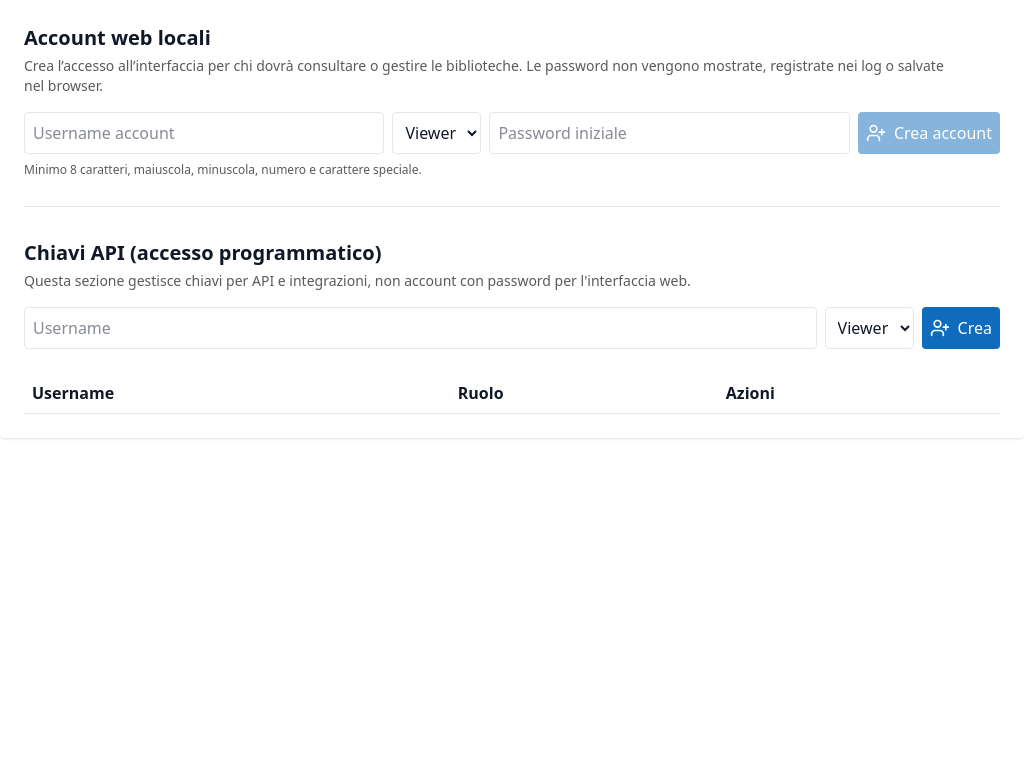
UserManagement › shows a newly generated API key in a one-time dialog instead of a notification
The image size is (1024, 768).
Expected: the heading "Chiavi API (accesso programmatico)" is shown, [24,239,382,266]
Type "maria" into the field with placeholder "Username". click: (420, 328)
box: [24,307,817,349]
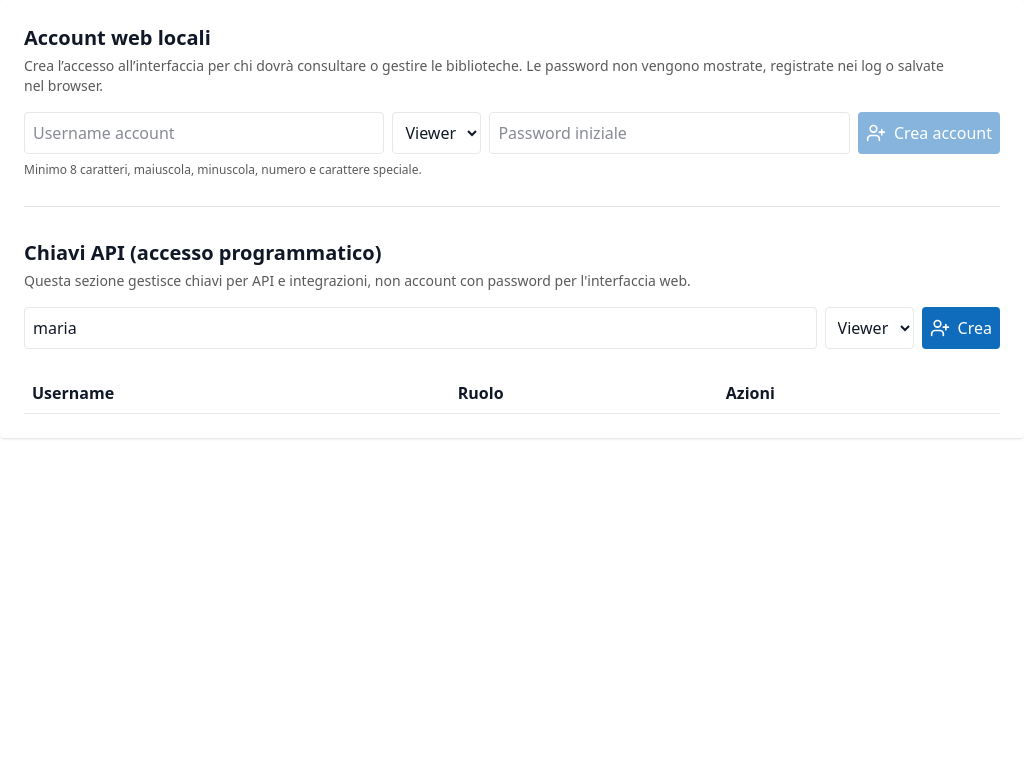
Click the button "Crea". click: (961, 328)
box: [922,307,1000,349]
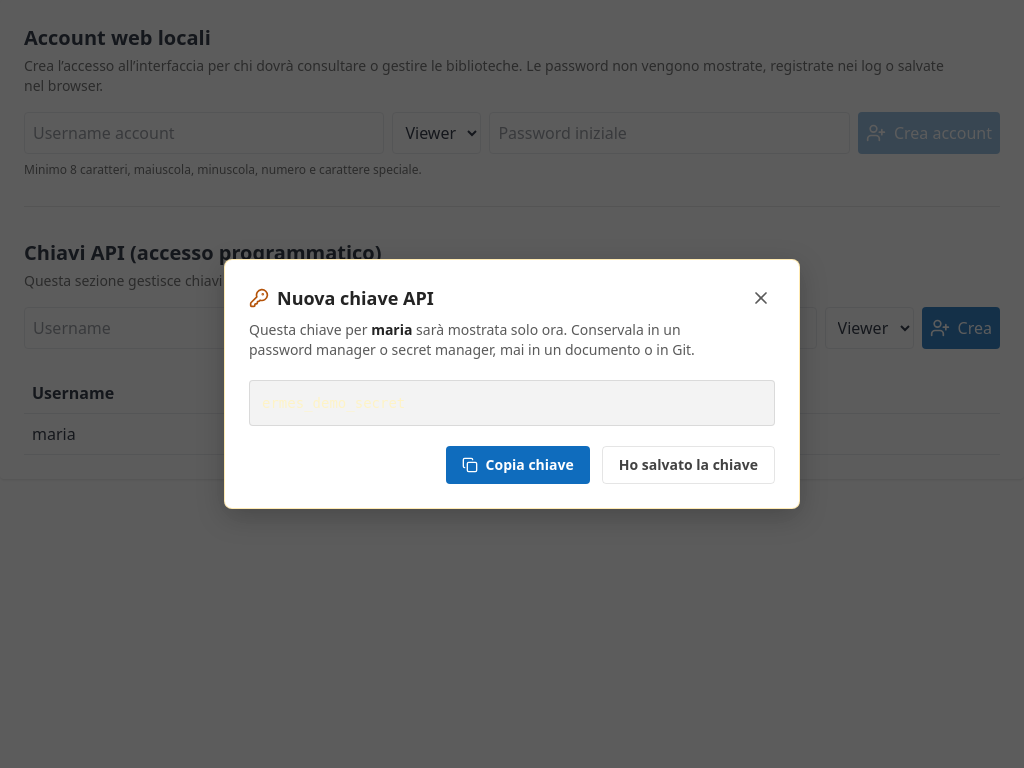
Expected: the dialog "Nuova chiave API" shows "ermes_demo_secret", [262,395,405,411]
